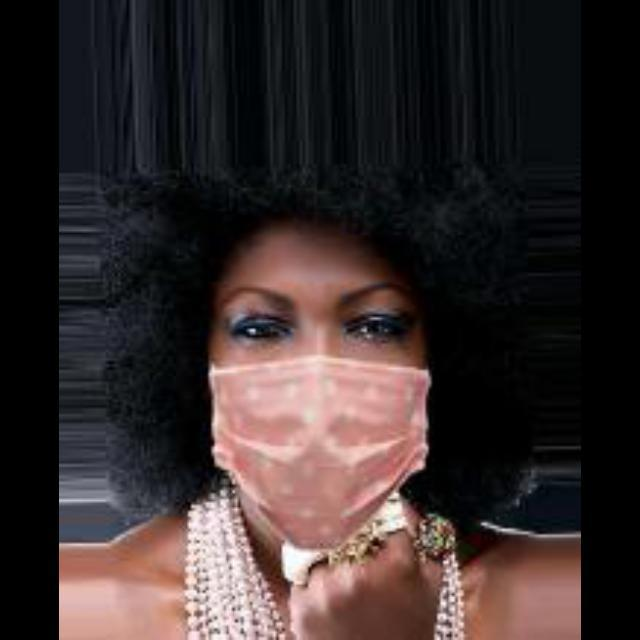suspicion: (58, 182, 554, 542)
